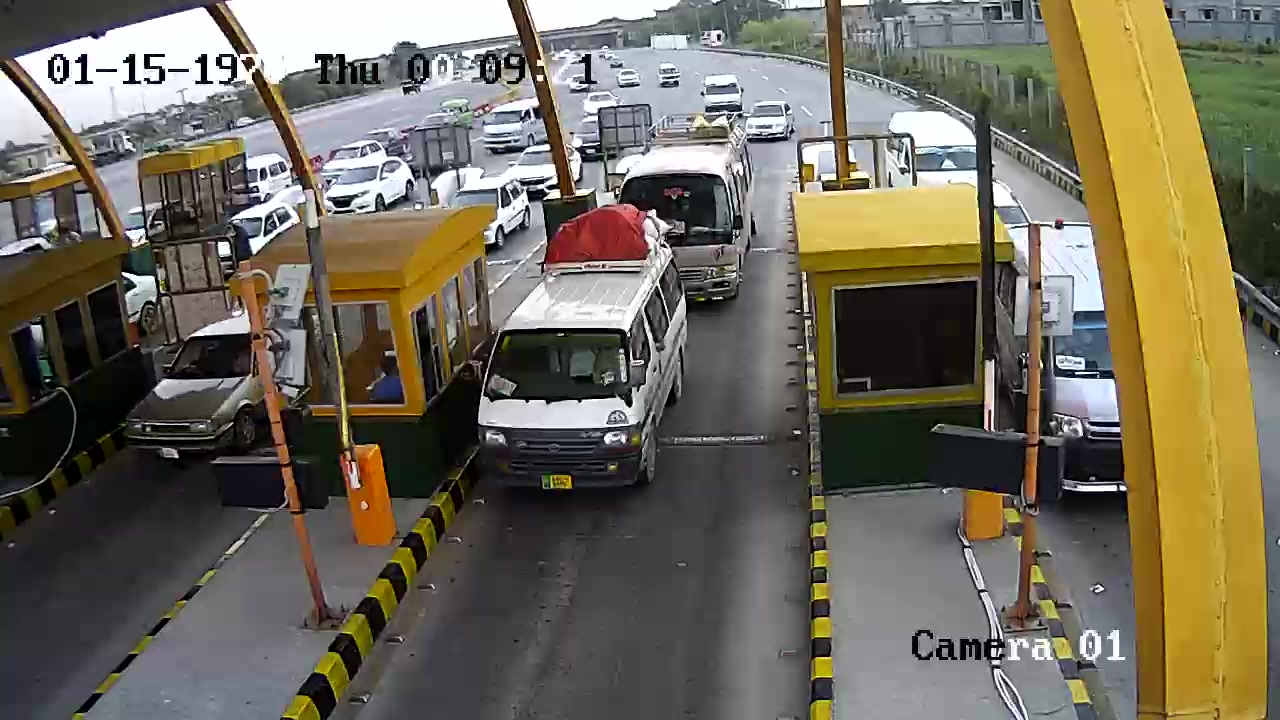F3: (469, 204, 690, 509)
